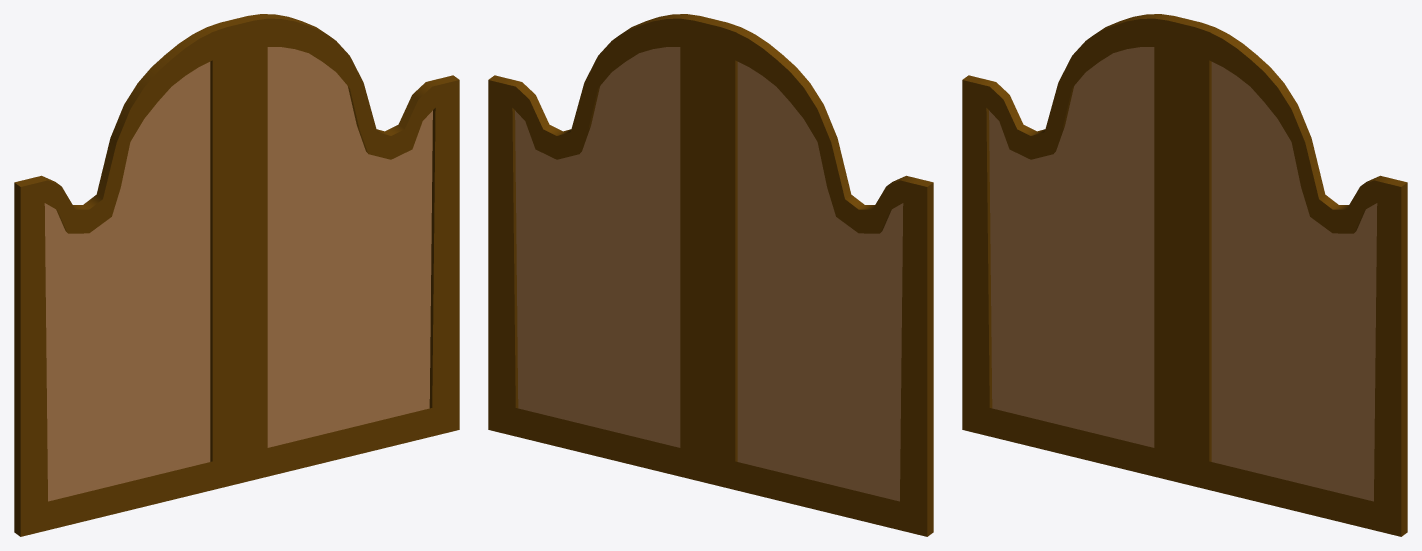
Rendered from saloonDoors.fbx.
The picture shows the model from 3 angles, left to right: view 1: azimuth 30°, elevation 25°; view 2: azimuth 150°, elevation 25°; view 3: azimuth 330°, elevation 25°; orthographic projection.
Visible parts, largest first — view 1: saloonDoor_inner_left, saloonDoor_inner_right, saloonDoor_frame_right, saloonDoor_frame_left; view 2: saloonDoor_inner_left, saloonDoor_inner_right, saloonDoor_frame_right, saloonDoor_frame_left; view 3: saloonDoor_inner_right, saloonDoor_inner_left, saloonDoor_frame_left, saloonDoor_frame_right.
Part boxes in pixels (x1,y1,x2,y2): saloonDoor_inner_left: (267, 47, 432, 447); saloonDoor_inner_right: (44, 62, 210, 501); saloonDoor_frame_right: (14, 19, 240, 536); saloonDoor_frame_left: (234, 14, 459, 483); saloonDoor_inner_left: (515, 47, 680, 447); saloonDoor_inner_right: (737, 62, 903, 501); saloonDoor_frame_right: (707, 19, 933, 536); saloonDoor_frame_left: (488, 14, 713, 483); saloonDoor_inner_right: (989, 47, 1154, 447); saloonDoor_inner_left: (1211, 62, 1377, 501); saloonDoor_frame_left: (1181, 19, 1407, 536); saloonDoor_frame_right: (962, 14, 1187, 483).
Bounding box in the file's own units: 2 × 2 × 0.05.
